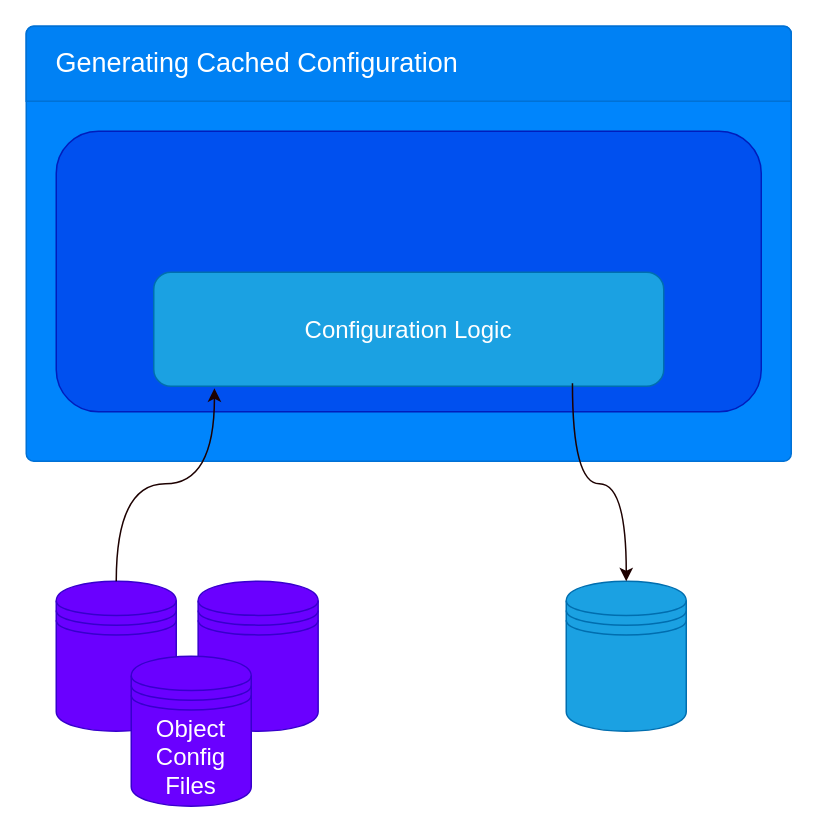
This 818x833 diagram has some shape labels left out. Each missing label, with the box of its shape:
Naemon Process: (55, 130, 761, 412)
Object Precache File: (565, 580, 686, 731)
